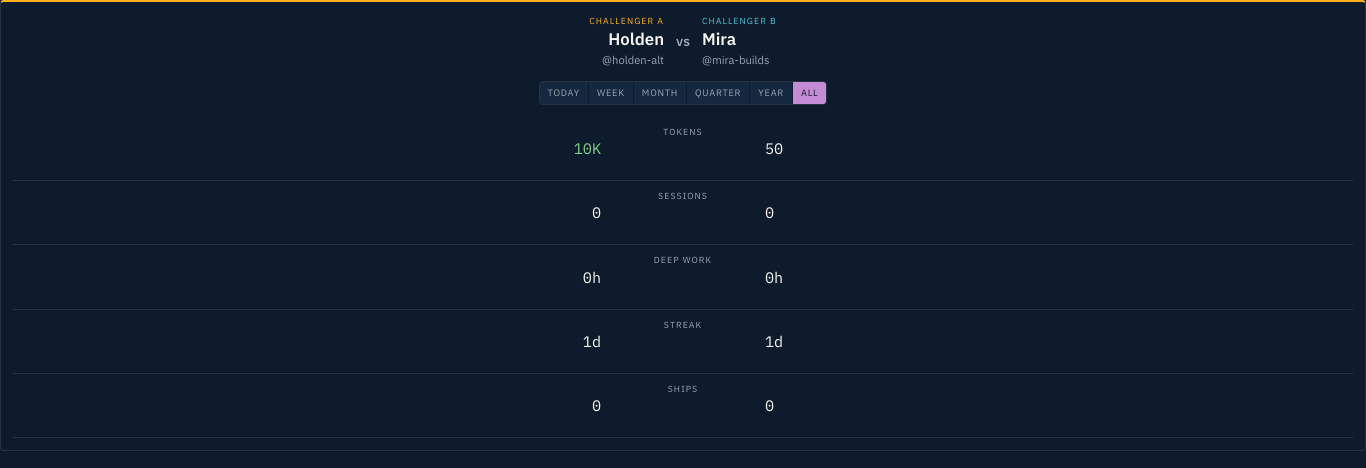
Test: HeadToHead › re-computes when window changes (e.g., switching to "today" keeps only today's stats)
Click the radio button labelled "today" at {"x": 564, "y": 93}, box [540,82,588,104]
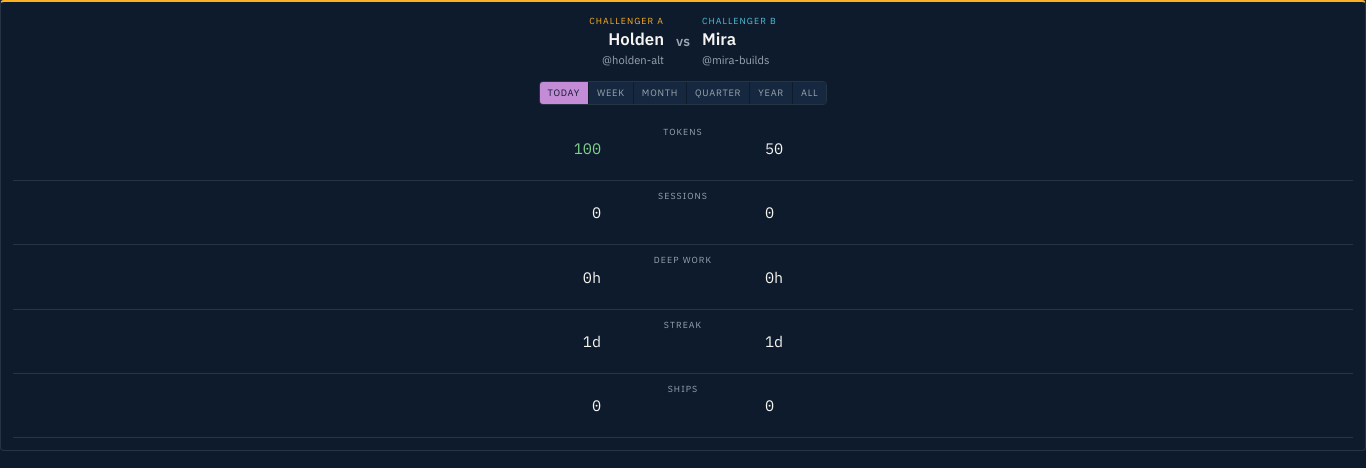
expect the text "100" is shown: met, box [574,138,601,158]
